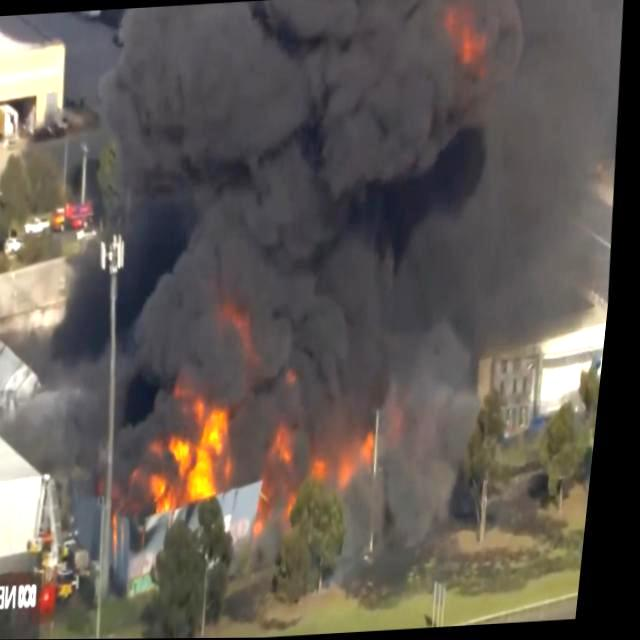fire: (251, 414, 394, 534), (156, 388, 252, 504)
